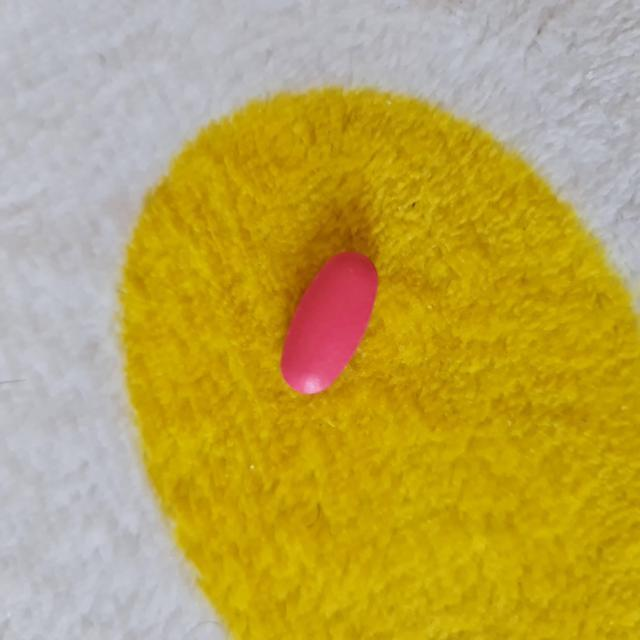pill: (282, 250, 378, 393)
